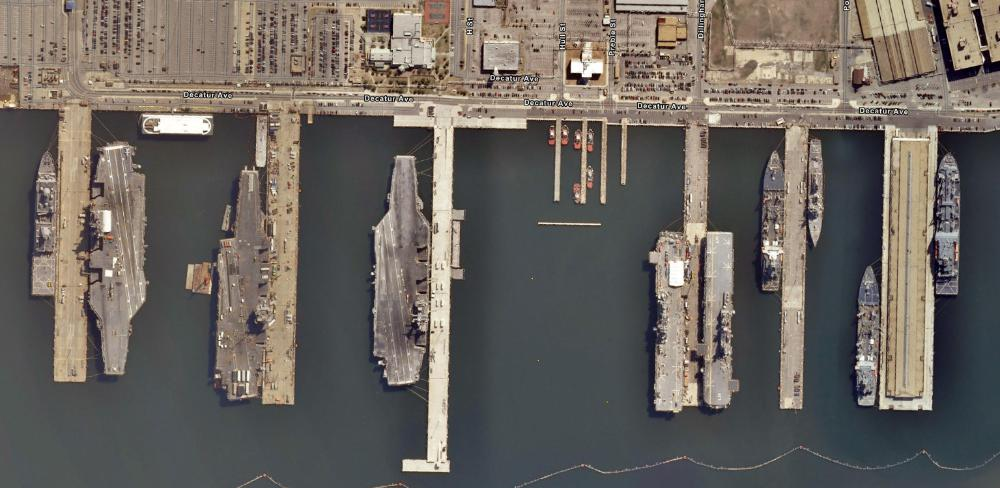fregate: (808, 136, 828, 246)
pha: (651, 229, 689, 414), (703, 227, 739, 416)
tender: (930, 151, 968, 300), (760, 146, 787, 296), (857, 262, 879, 417)
